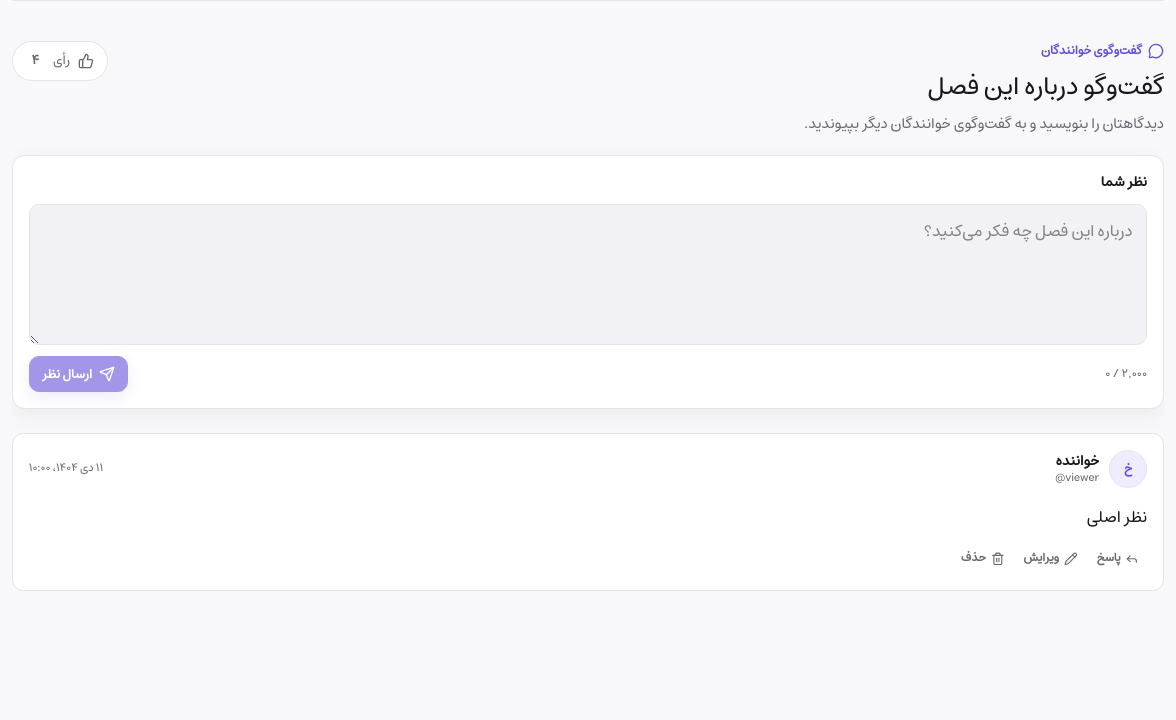
it: ReaderInteractions › edits and soft-deletes an owned comment
Expected: the text "نظر اصلی" is shown, x1=1087 y1=503 x2=1147 y2=531
Click the button "ویرایش" at (1051, 558), box x1=1016 y1=542 x2=1086 y2=574
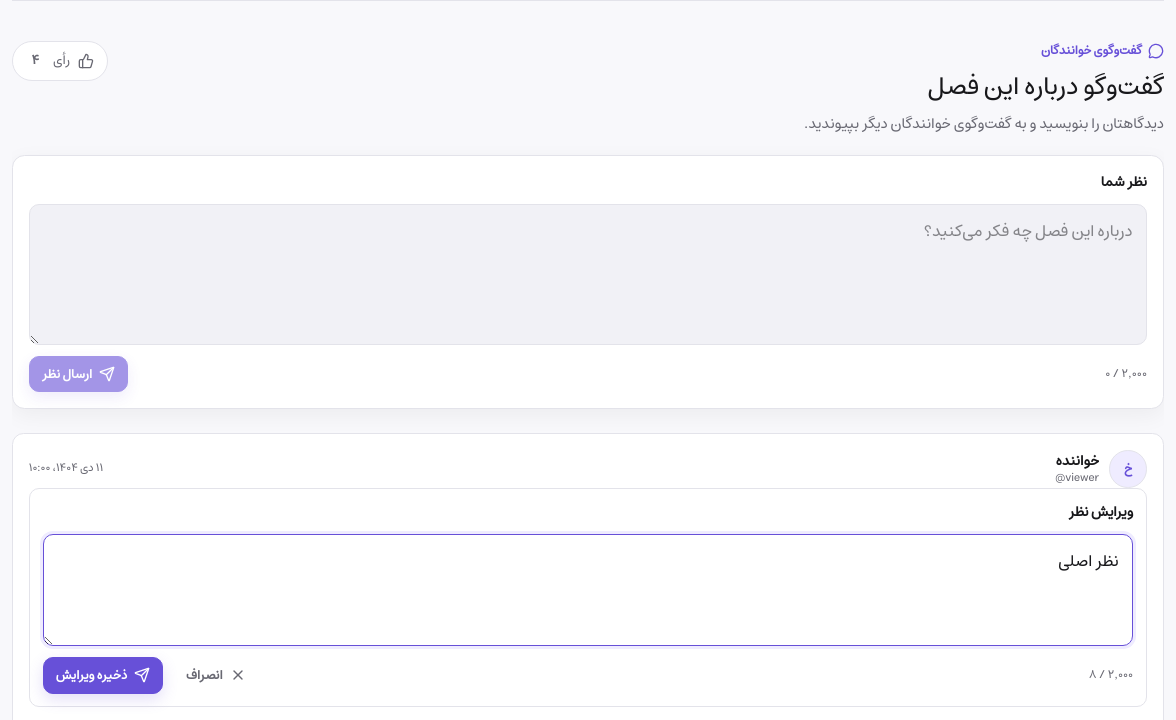
Replace the text in the text box labelled "ویرایش نظر" with "نظر ویرایش‌شده" at (588, 590), box x1=43 y1=534 x2=1133 y2=646
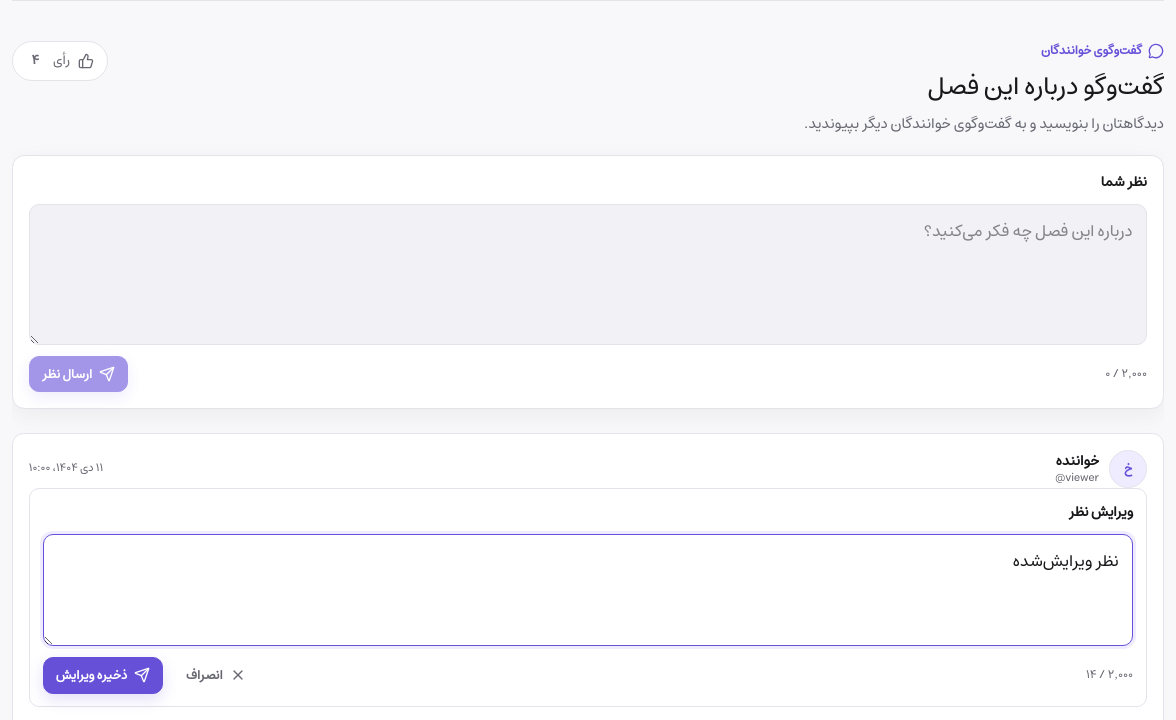
Click the button "ذخیره ویرایش" at (103, 675), box x1=43 y1=657 x2=163 y2=694
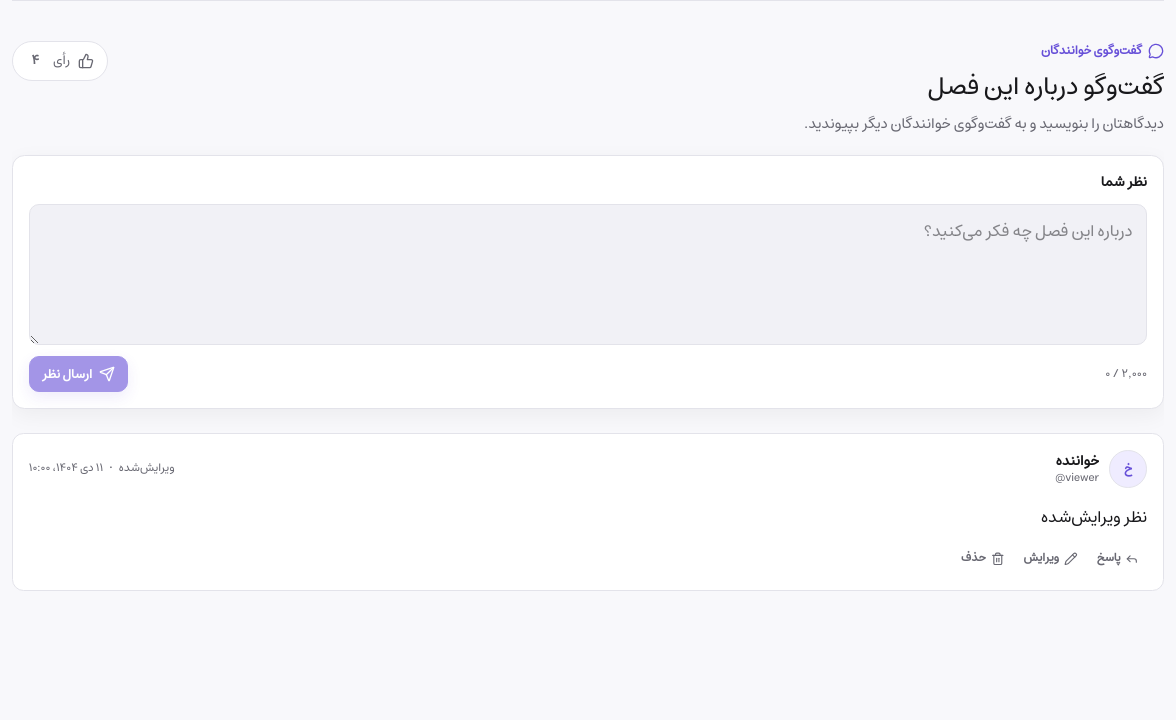
Now the text "نظر ویرایش‌شده" is shown, box x1=1041 y1=503 x2=1147 y2=531
Click the button "حذف" at (983, 558), box x1=953 y1=542 x2=1012 y2=574
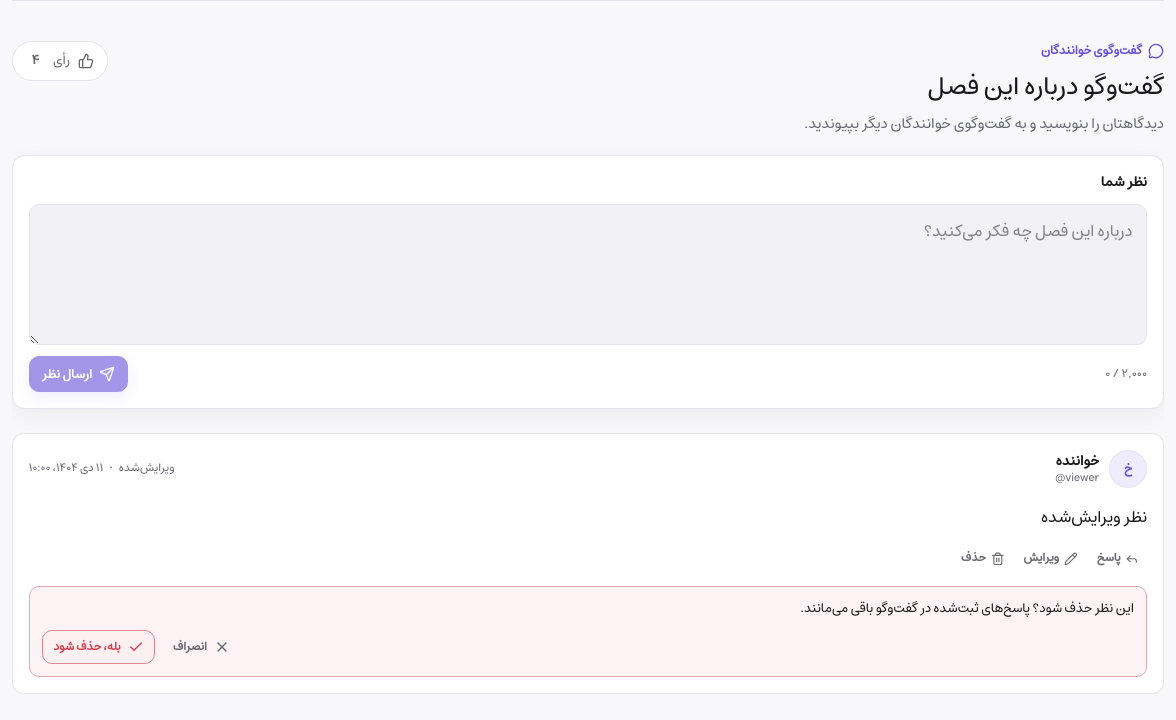
Click the button "بله، حذف شود" at (99, 647), box x1=42 y1=630 x2=155 y2=664
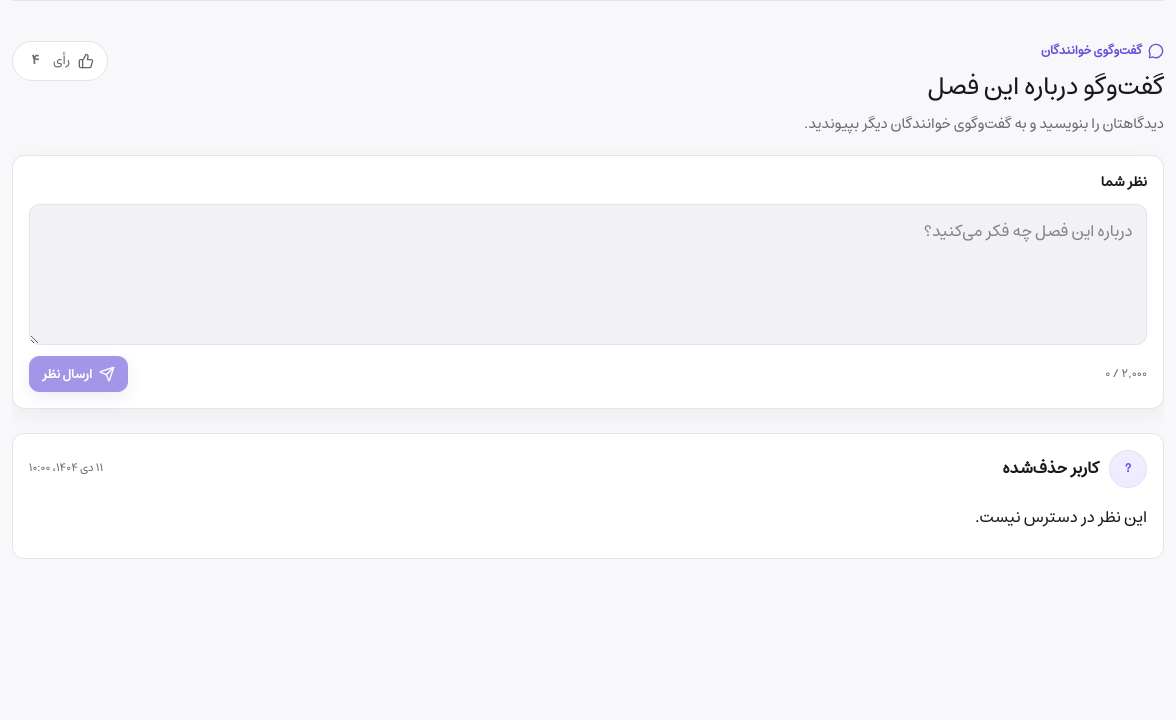
Now the text "این نظر در دسترس نیست." is shown, box x1=975 y1=503 x2=1147 y2=531
